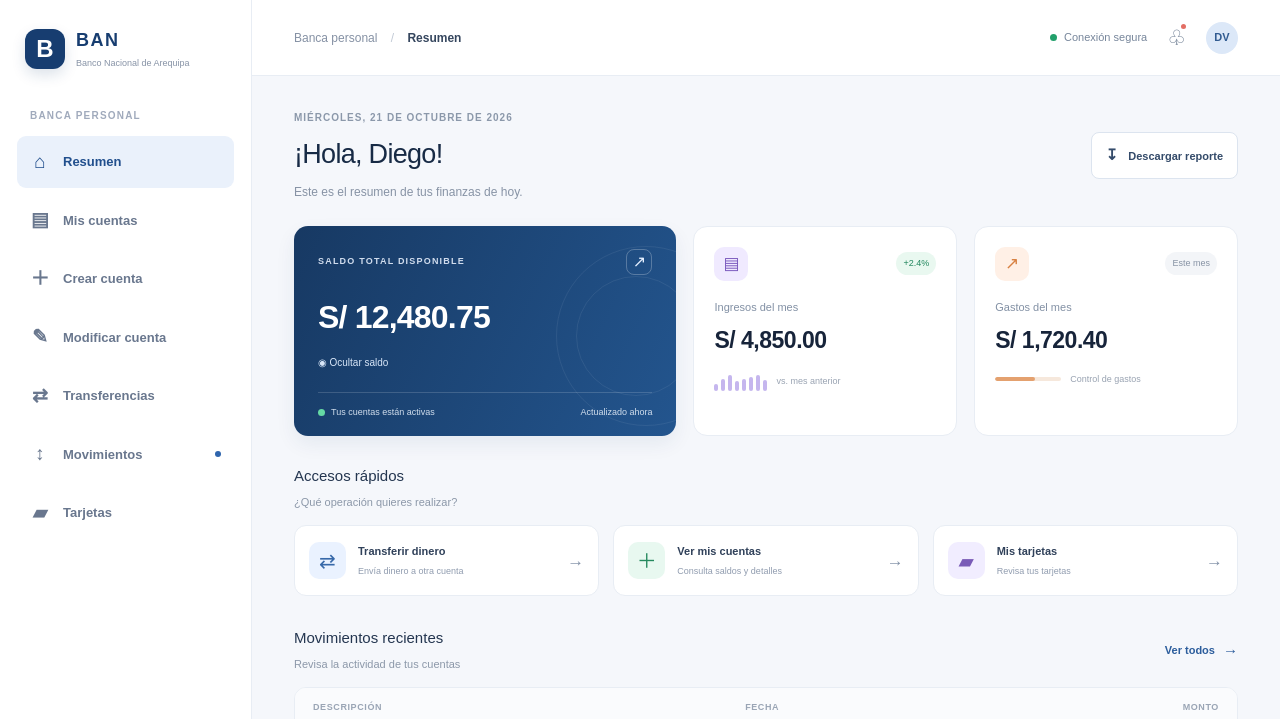
Test: Transferencias › CP-11 Rechaza destino vacío
Click the button "⇄ Transferencias" at [126, 396], box [17, 370, 234, 422]
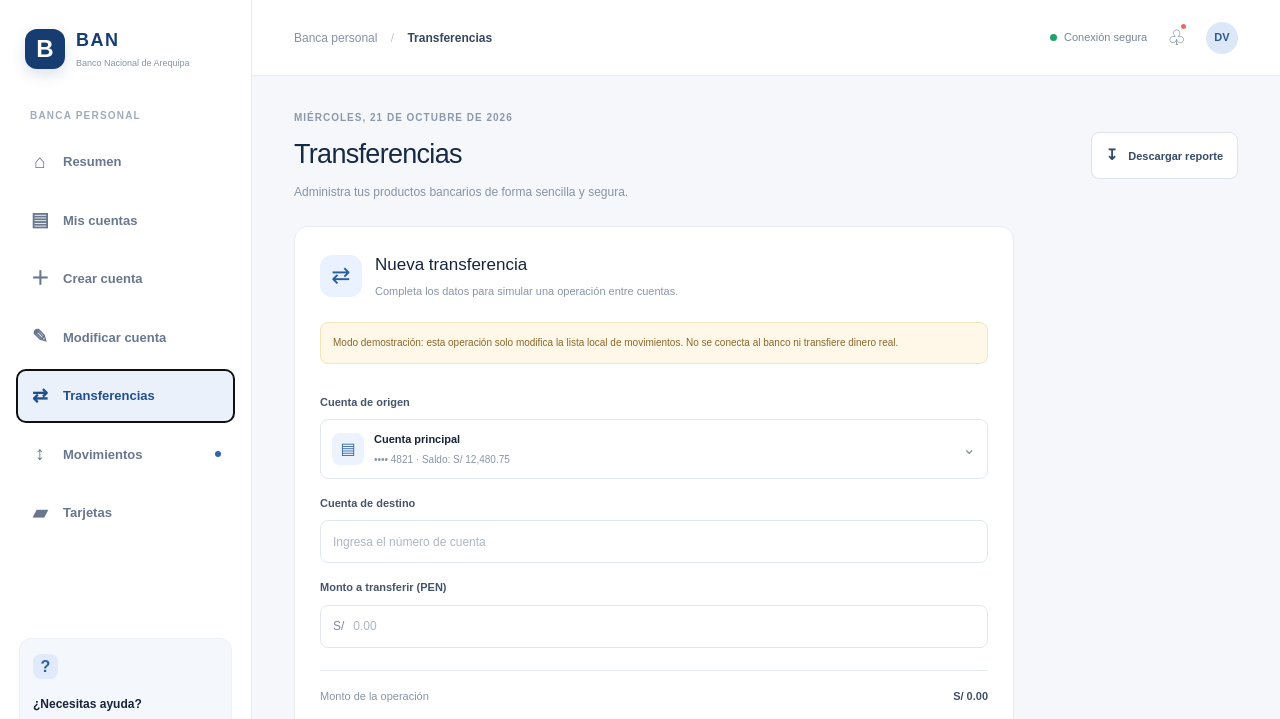
Type "100" into the number field labelled "Monto a transferir (PEN)" at [664, 626], box [353, 606, 975, 646]
(page scrolled)
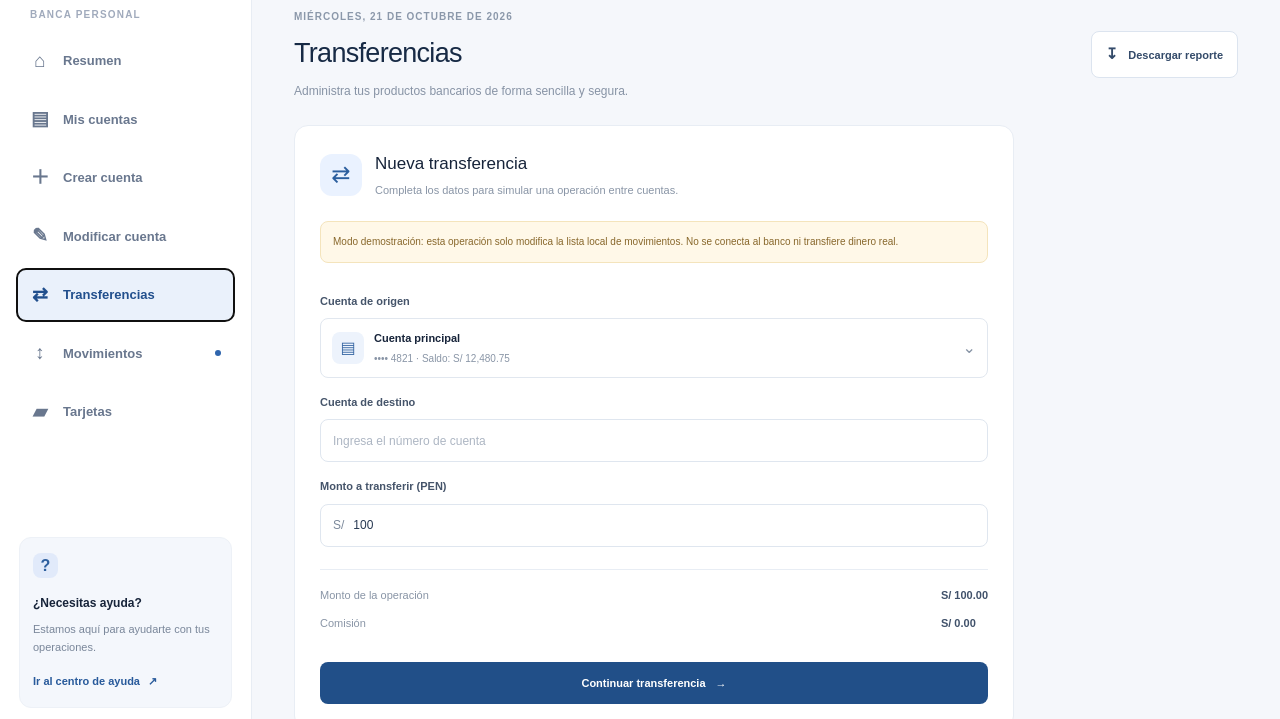
Submit the form named "Continuar transferencia", box [320, 286, 988, 704]
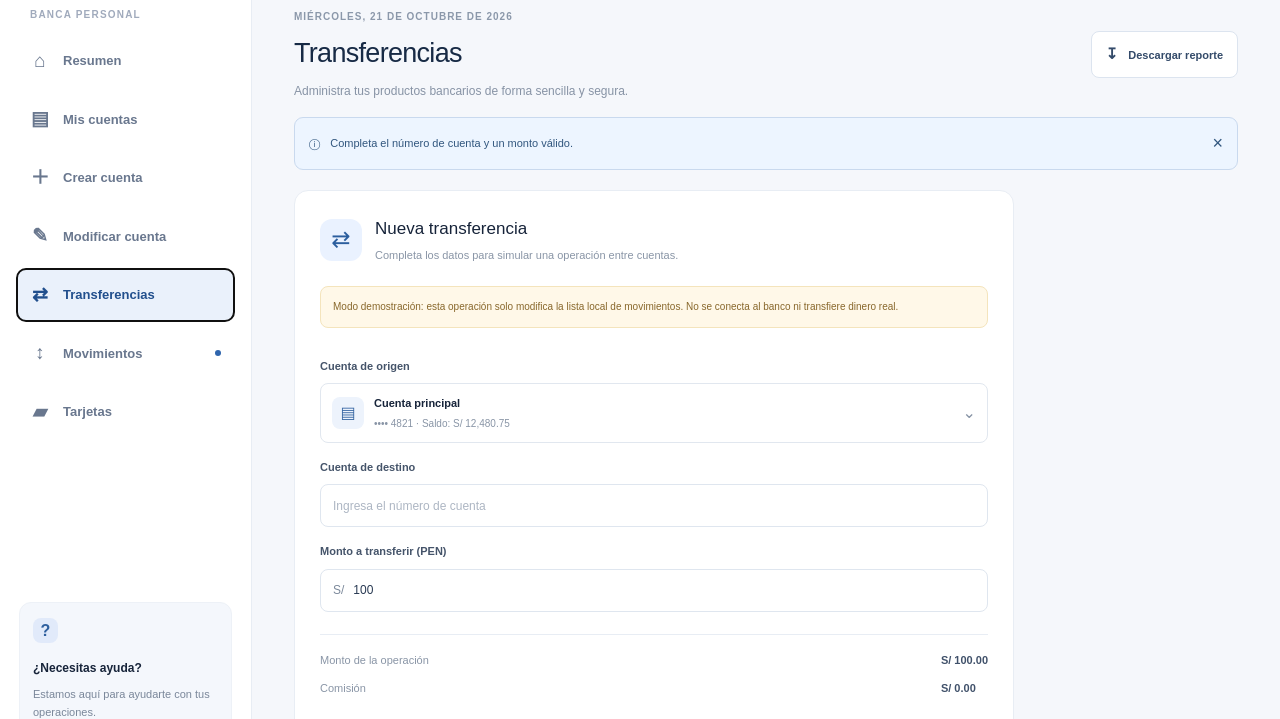
Result: the message shows "Completa el número de cuenta y un monto válido." at [330, 137, 573, 149]
